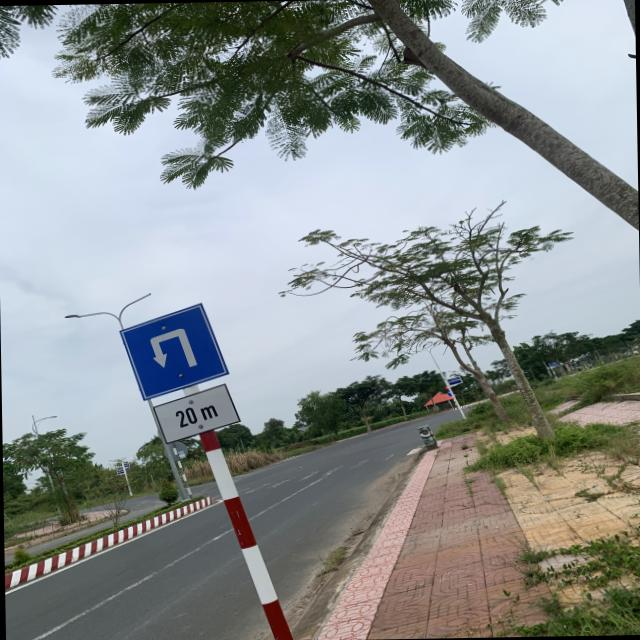Den_Giao_Thong: (117, 300, 229, 398)
